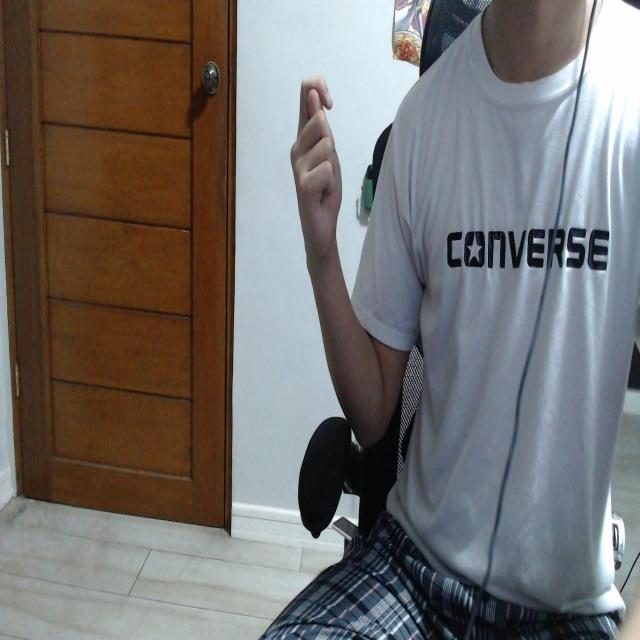T: (290, 72, 343, 250)
